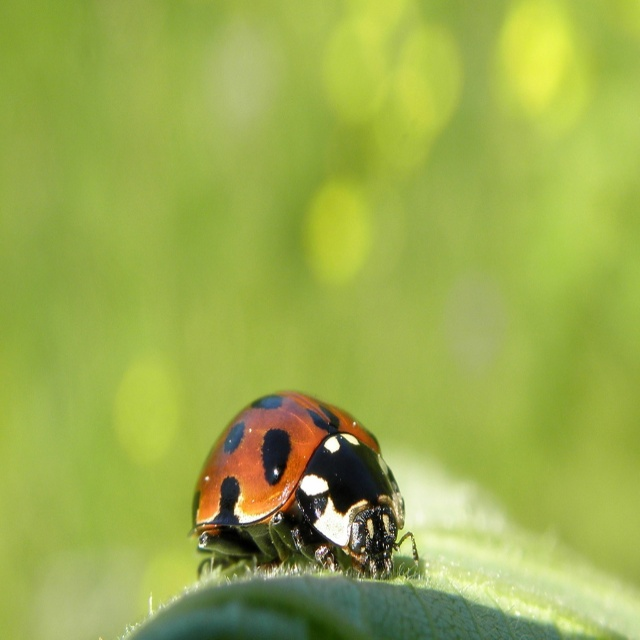Ladybug: (186, 388, 416, 579)
